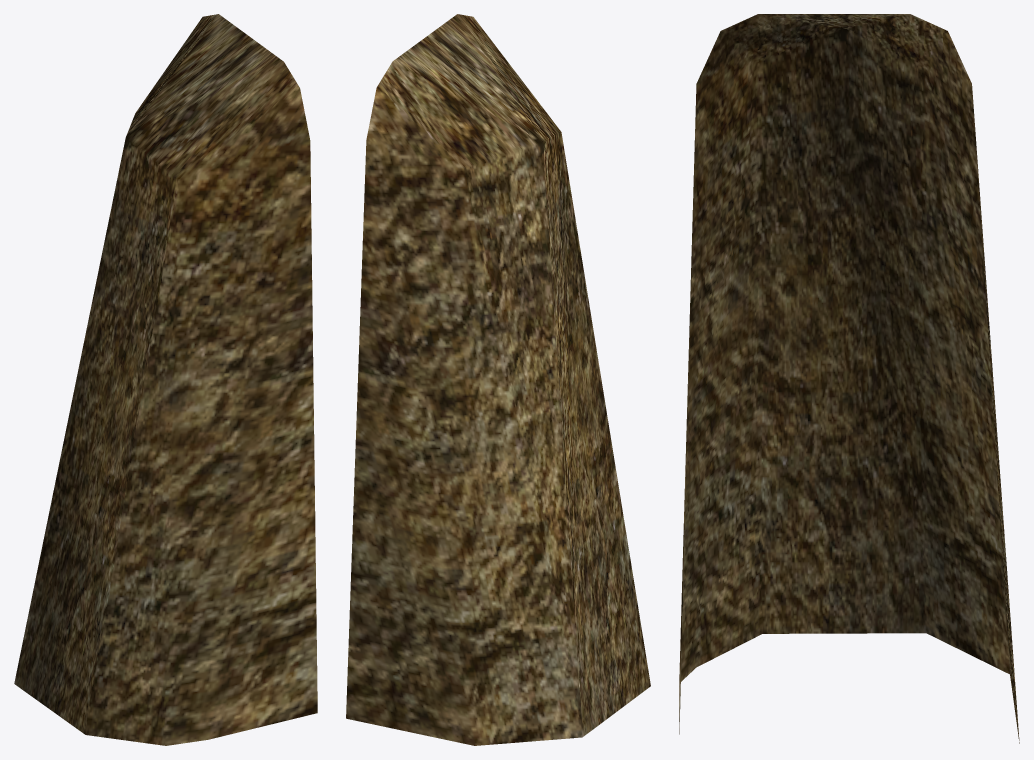
The model's file is hrz26.glb.
The picture shows the model from 3 angles, left to right: view 1: azimuth 30°, elevation 25°; view 2: azimuth 150°, elevation 25°; view 3: azimuth 270°, elevation 25°; orthographic projection. The views are drawn at different scales.
Parts seen in each view (by area): view 1: hrz26-col; view 2: hrz26-col; view 3: hrz26-col.
Part boxes in pixels (bbox=[...]): hrz26-col: bbox=[14, 14, 317, 745]; hrz26-col: bbox=[346, 14, 650, 745]; hrz26-col: bbox=[679, 14, 1019, 743].
Bounding box in the file's own units: 1.46 × 4.45 × 1.87.
1 material, 1 textured.
